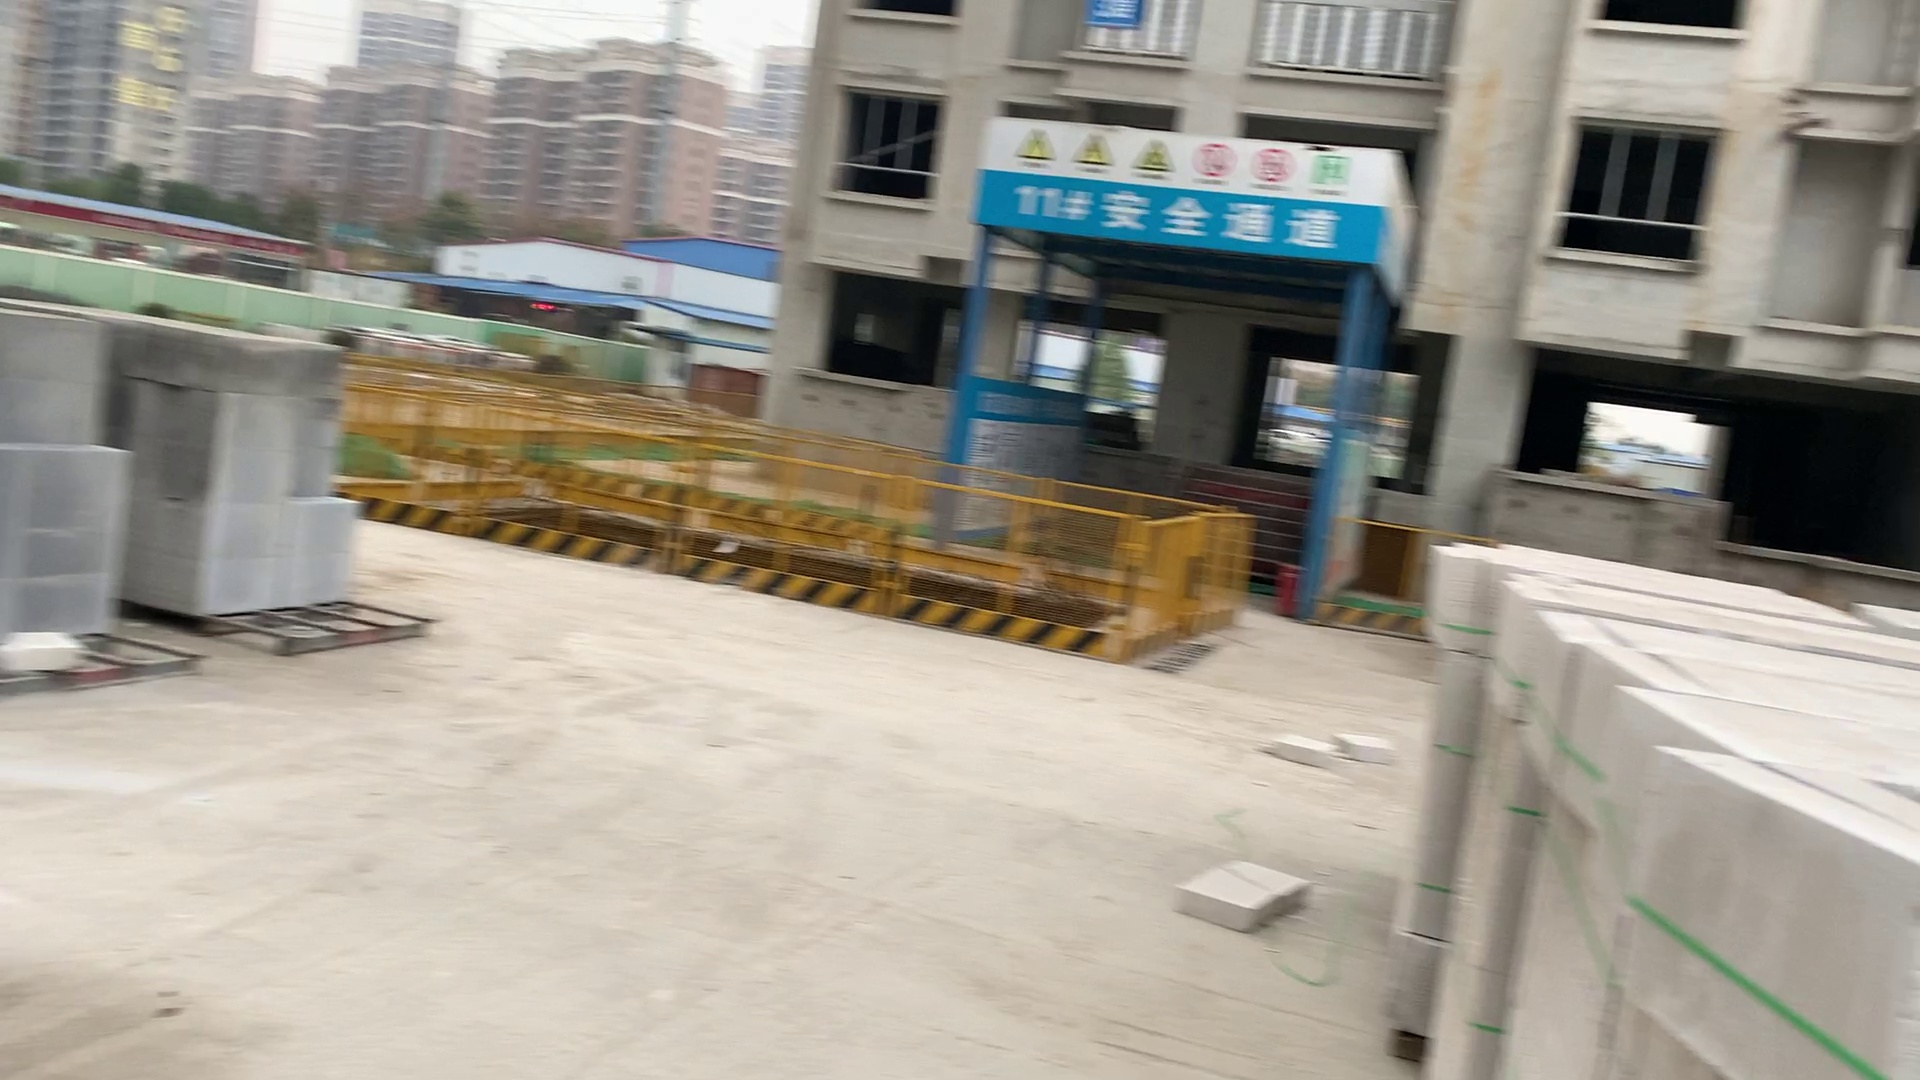brickwork: (1619, 753, 1920, 1077), (141, 326, 360, 615), (4, 313, 135, 645), (1491, 575, 1915, 673), (1445, 524, 1855, 615), (1534, 611, 1920, 680), (1622, 691, 1920, 775), (1600, 651, 1920, 707)
